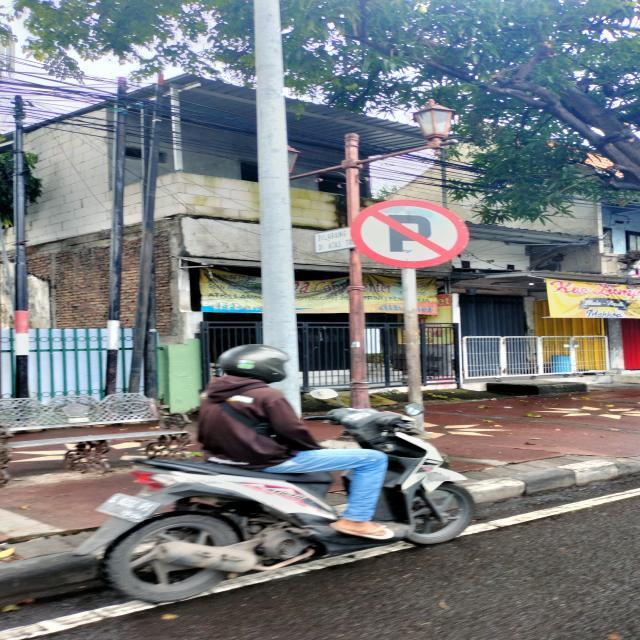Dilarang Parkir: (352, 198, 472, 270)
